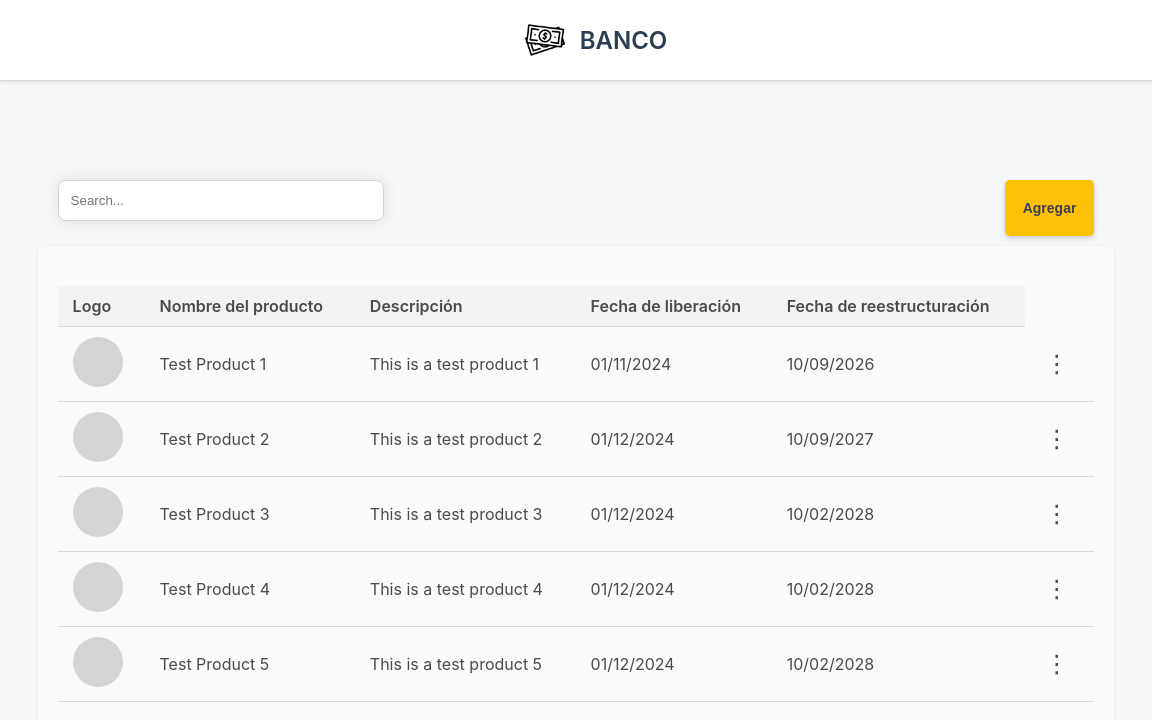
it: ProductList › filters products based on search term
Type "Test Product 2" into the field with placeholder "Search...".
click(221, 200); type("Test Product 2")  # box [58, 180, 384, 221]
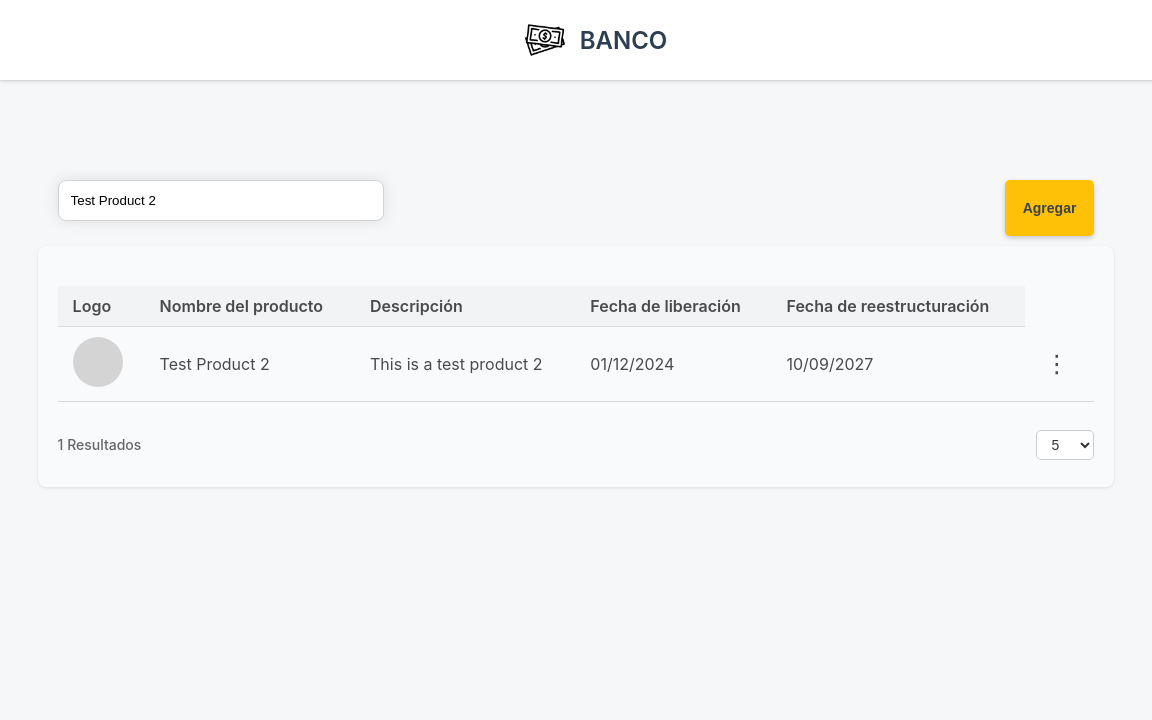
Expected: the text "Test Product 2" is shown, [160, 354, 270, 374]
Expected: the text "Test Product 1" is gone
